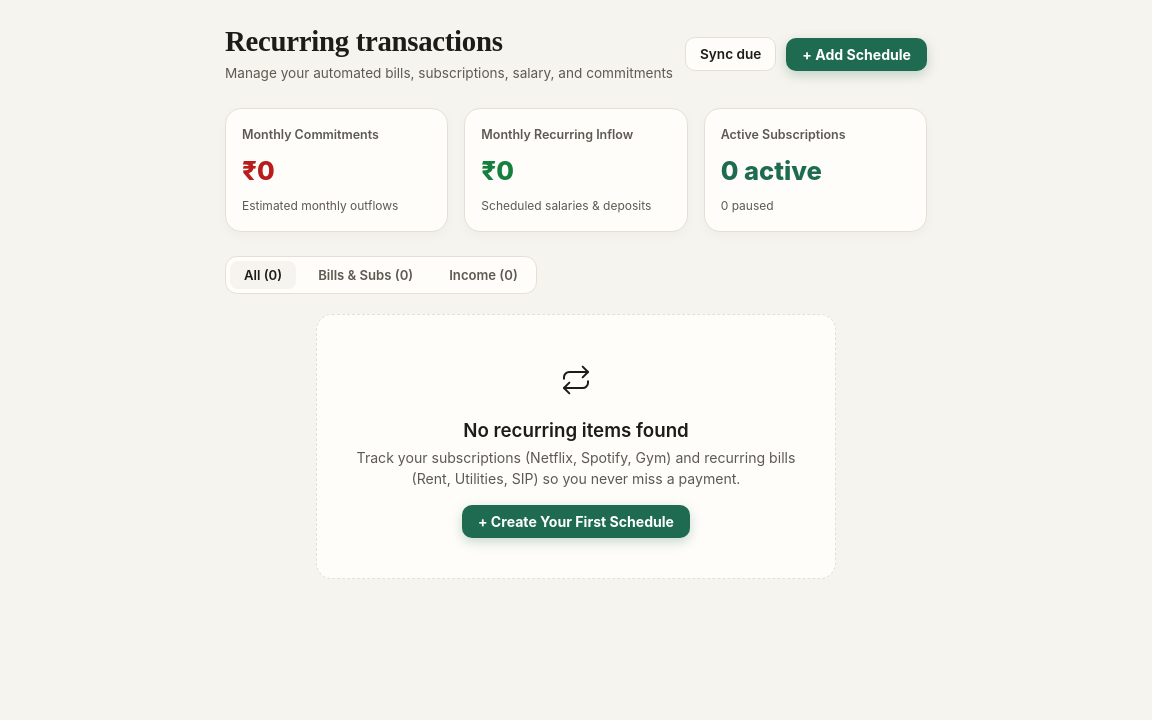
Test: Recurring dialog accessibility › has a named dialog and closes via Escape and Close without submitting
The width and height of the screenshot is (1152, 720).
Click the button "+ Add Schedule" at (857, 54), box [786, 38, 927, 71]
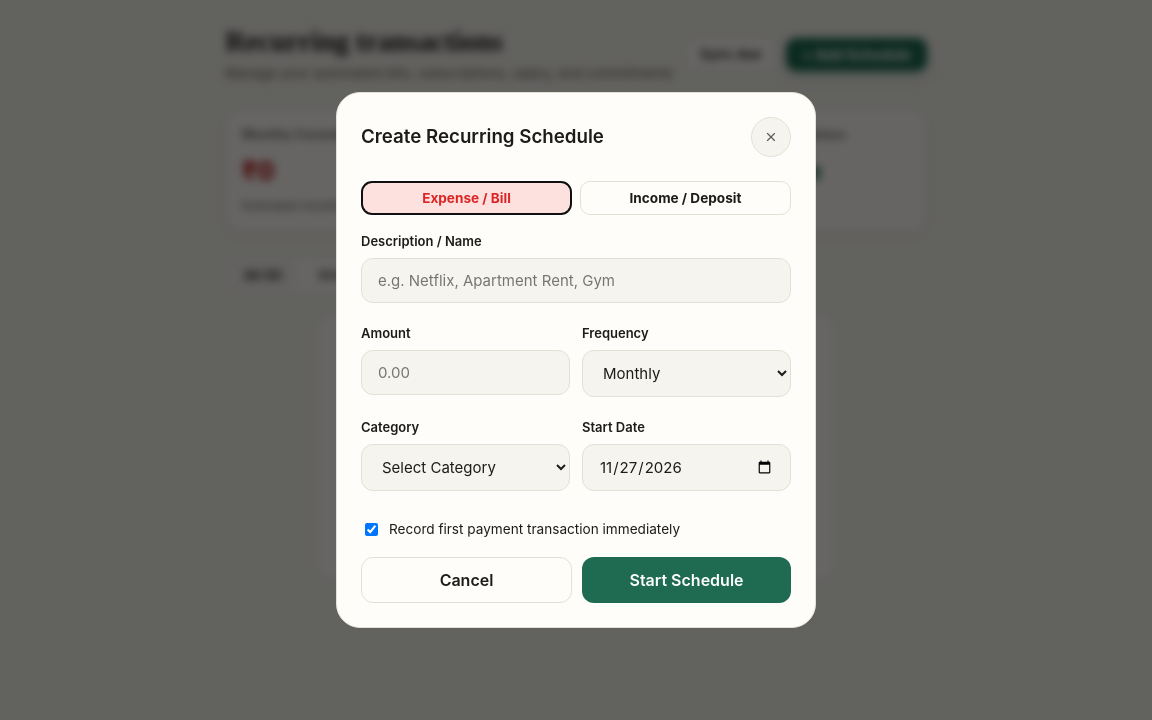
Press Escape
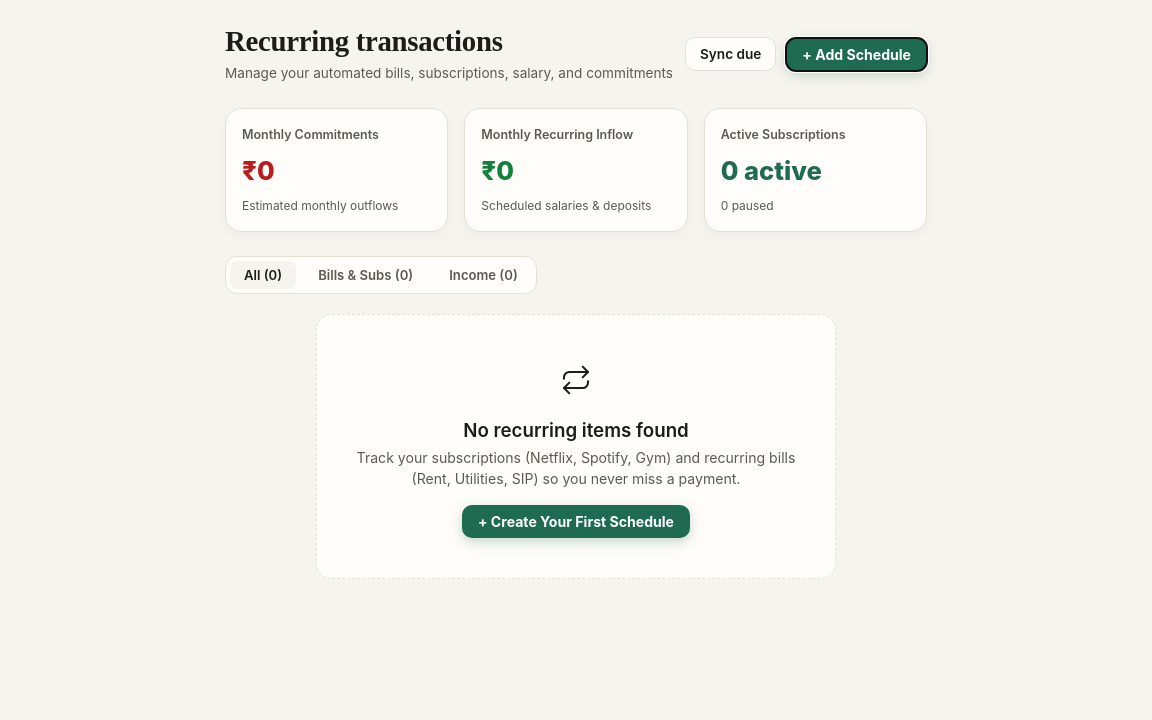
Now the dialog is gone
Click the button "+ Add Schedule" at (857, 54), box [786, 38, 927, 71]
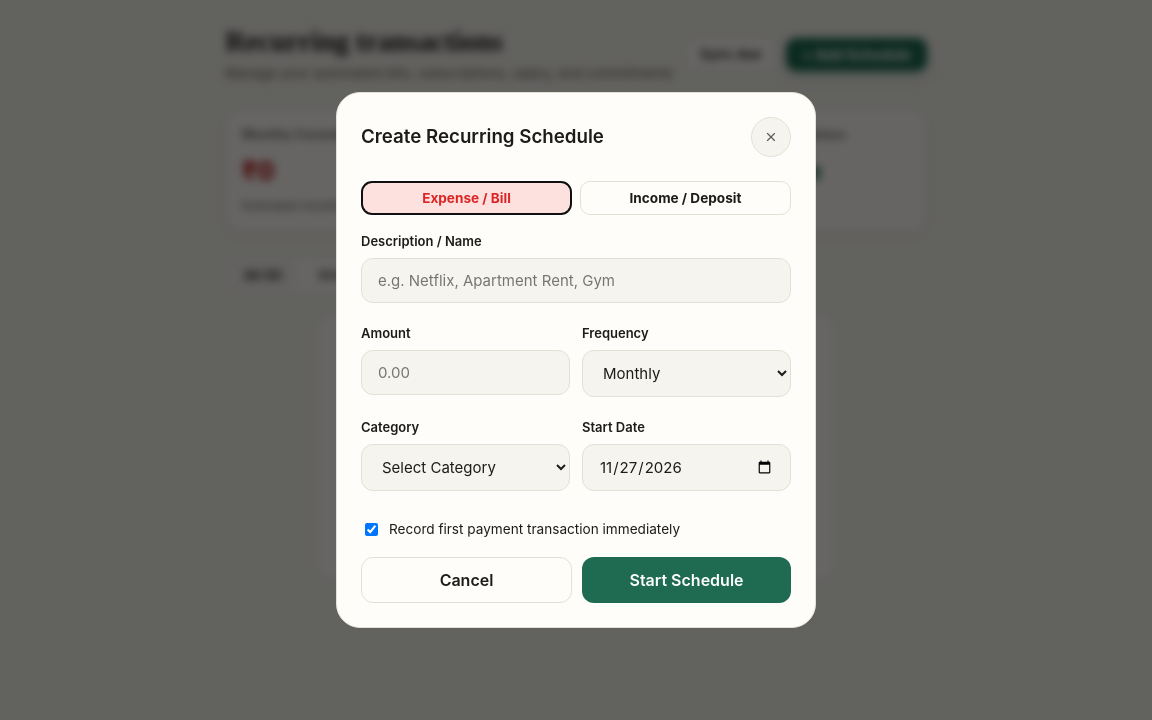
Click the button named "Close" at (771, 137), box [751, 117, 791, 157]
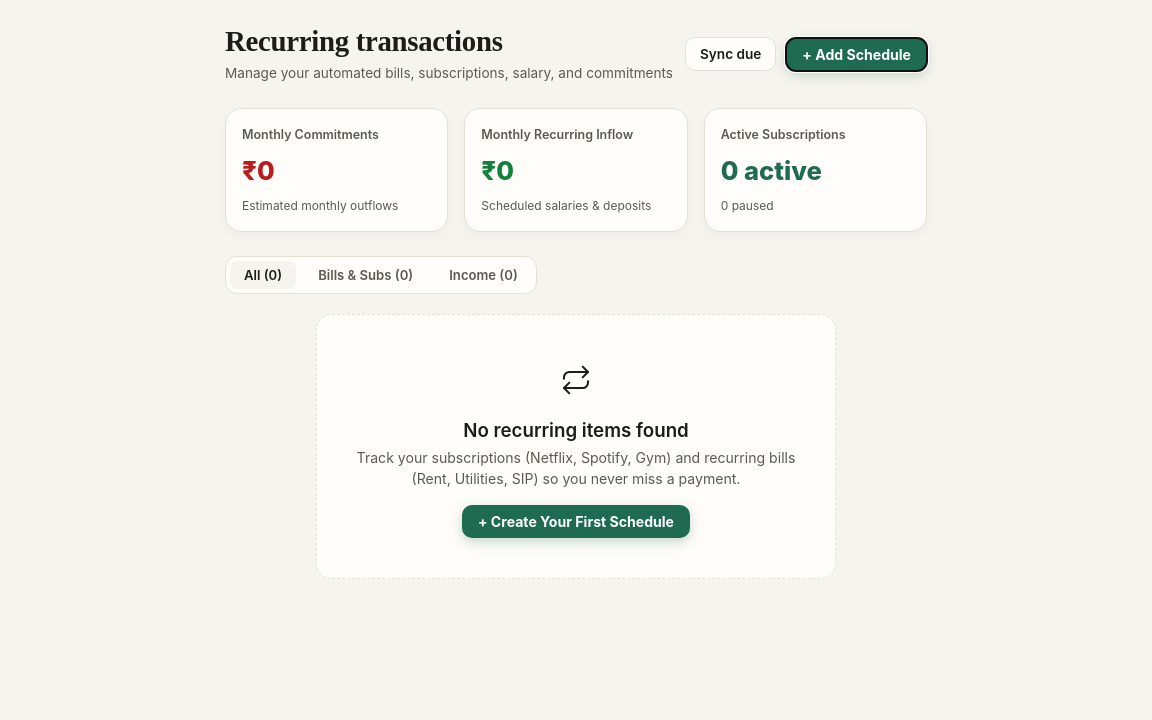
Now the dialog is gone
